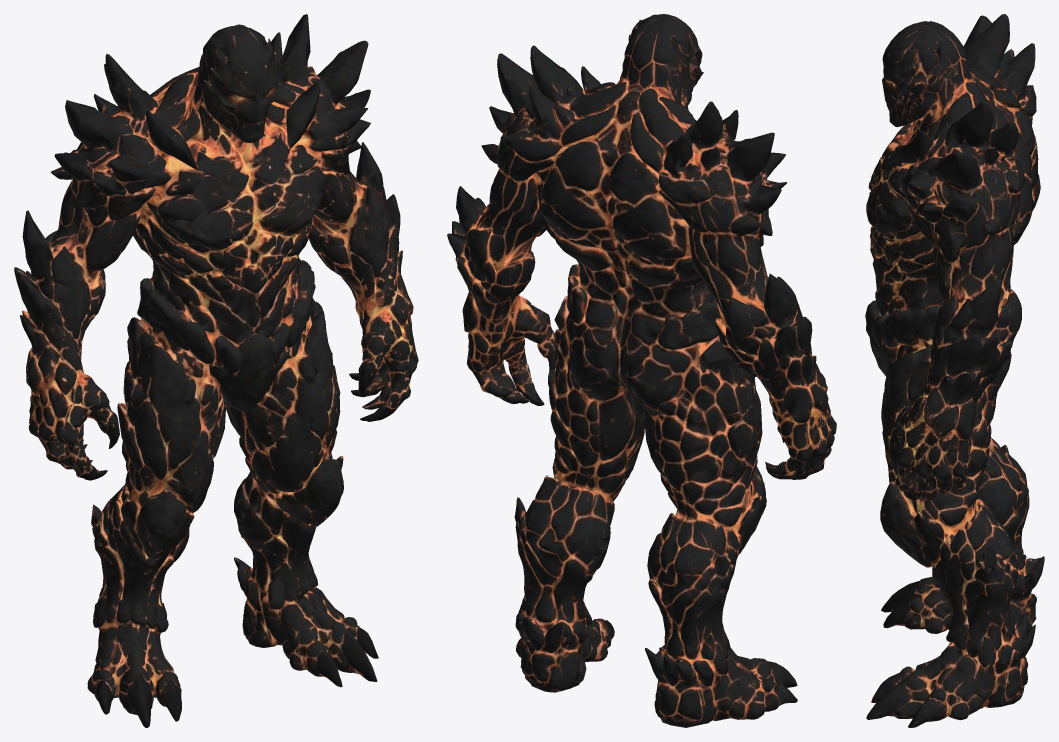
Rendered from cinder_thrall.glb.
The picture shows the model from 3 angles, left to right: view 1: azimuth 30°, elevation 25°; view 2: azimuth 150°, elevation 25°; view 3: azimuth 270°, elevation 25°; orthographic projection. The views are drawn at different scales.
Visible parts, largest first — view 1: cinder_thrall; view 2: cinder_thrall; view 3: cinder_thrall.
Part boxes in pixels (left/top/right/bottom): cinder_thrall: left=14, top=14, right=418, bottom=727; cinder_thrall: left=447, top=14, right=836, bottom=727; cinder_thrall: left=865, top=14, right=1044, bottom=727.
Bounding box in the file's own units: 1.11 × 1.9 × 0.4814.
1 material, 1 textured.
